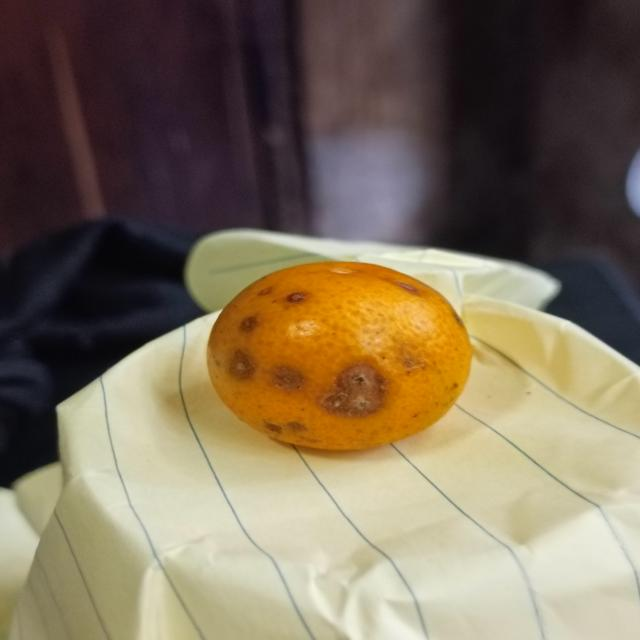black spot: (202, 256, 476, 455)
